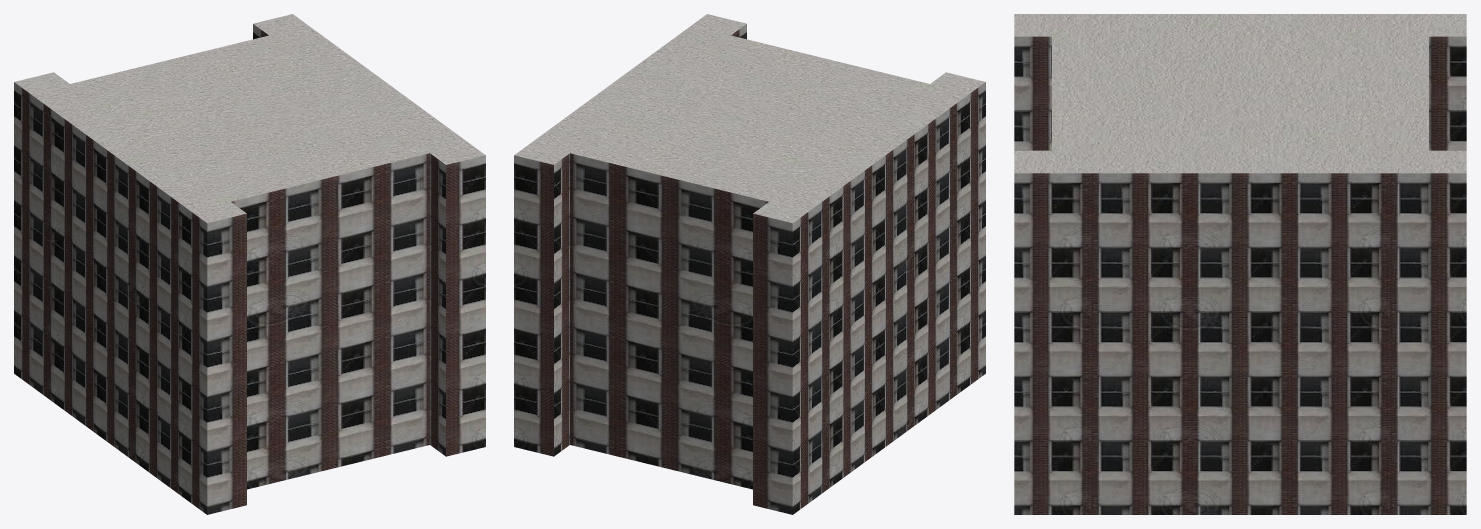
File: building7.fbx
3 renders of one model, left to right at view 1: azimuth 30°, elevation 25°; view 2: azimuth 150°, elevation 25°; view 3: azimuth 270°, elevation 25°, orthographic. The views are drawn at different scales.
Visible parts, largest first — view 1: building_029; view 2: building_029; view 3: building_029.
Boxes of the visible parts, left/top/right/bottom form: building_029: left=14, top=14, right=485, bottom=514; building_029: left=514, top=14, right=985, bottom=514; building_029: left=1014, top=14, right=1466, bottom=514.
Bounding box in the file's own units: 1400 × 1400 × 1680.
